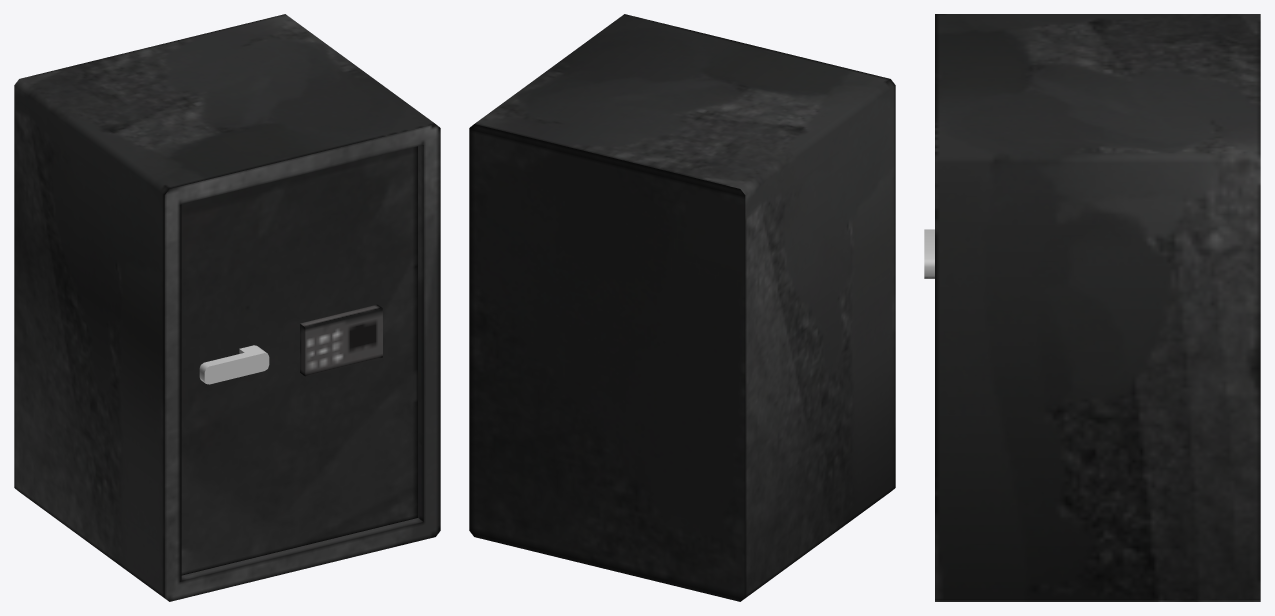
File: Safe_Asset.fbx
3 views of the same model, side by side, from view 1: azimuth 30°, elevation 25°; view 2: azimuth 150°, elevation 25°; view 3: azimuth 270°, elevation 25° (orthographic). The views are drawn at different scales.
Parts seen in each view (by area): view 1: Safe, SafeDoor, SafeHandle; view 2: Safe; view 3: Safe, SafeHandle.
Part boxes in pixels (box(x1,y1,x2,y2)): Safe: box(14, 14, 440, 601); SafeDoor: box(181, 146, 417, 575); SafeHandle: box(199, 345, 269, 384); Safe: box(469, 14, 895, 601); Safe: box(935, 14, 1260, 601); SafeHandle: box(924, 229, 934, 278).
Size of the model in its own units: 35 by 34.08 by 50.
